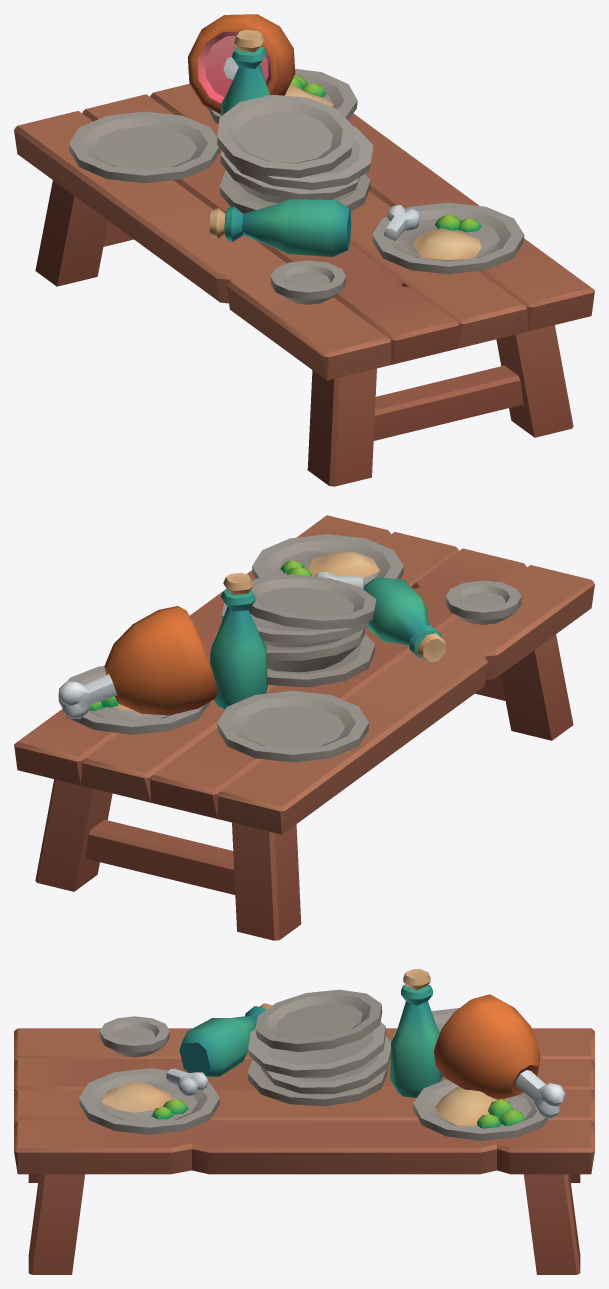
Rendered from table_long_decorated_A.gltf.
3 renders of one model, top to bottom at view 1: azimuth 30°, elevation 25°; view 2: azimuth 150°, elevation 25°; view 3: azimuth 270°, elevation 25°, orthographic. The views are drawn at different scales.
Visible parts, largest first — view 1: table_long_decorated_A; view 2: table_long_decorated_A; view 3: table_long_decorated_A.
Part boxes in pixels (box(x1,y1,x2,y2)): table_long_decorated_A: box(14, 14, 594, 486); table_long_decorated_A: box(14, 515, 594, 940); table_long_decorated_A: box(14, 969, 594, 1274).
Size of the model in its own units: 2.06 by 1.89 by 4.
Materials: 1 (1 with a texture image).
